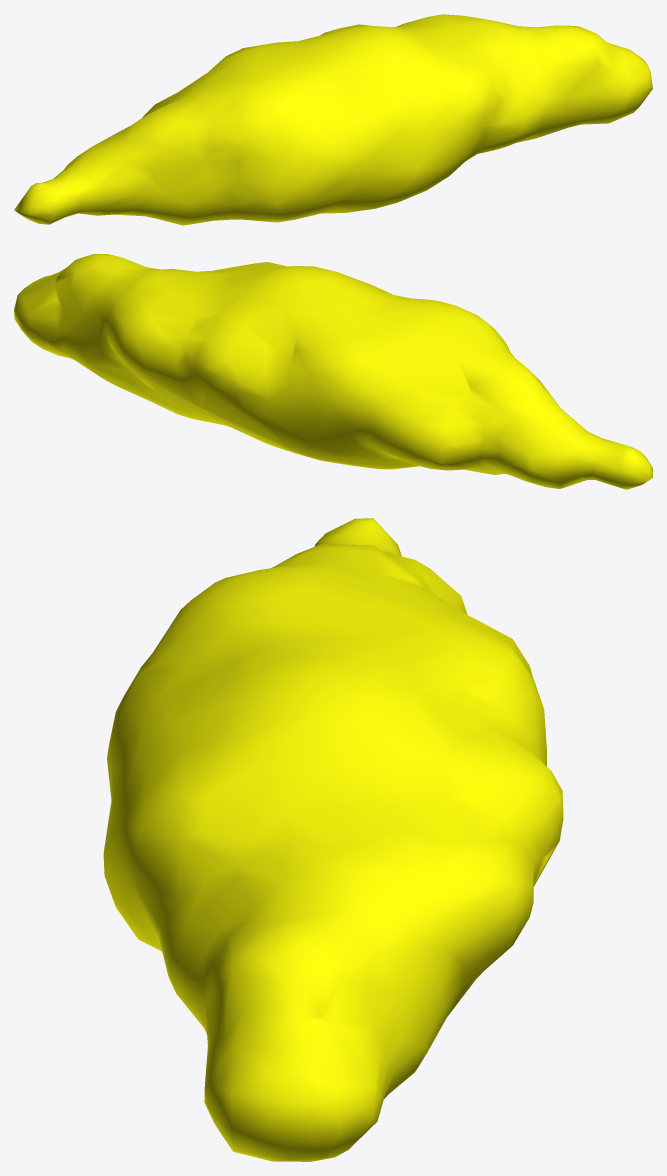
File: cloud_a.glb
The picture shows the model from 3 angles, top to bottom: view 1: azimuth 30°, elevation 25°; view 2: azimuth 150°, elevation 25°; view 3: azimuth 270°, elevation 25°; orthographic projection. The views are drawn at different scales.
Parts seen in each view (by area): view 1: SM_Cloud_01; view 2: SM_Cloud_01; view 3: SM_Cloud_01.
Part boxes in pixels (x1,y1,x2,y2): SM_Cloud_01: (14,14,652,225); SM_Cloud_01: (14,254,652,489); SM_Cloud_01: (103,518,563,1161).
Bounding box in the file's own units: 10.64 × 2.54 × 3.47.
